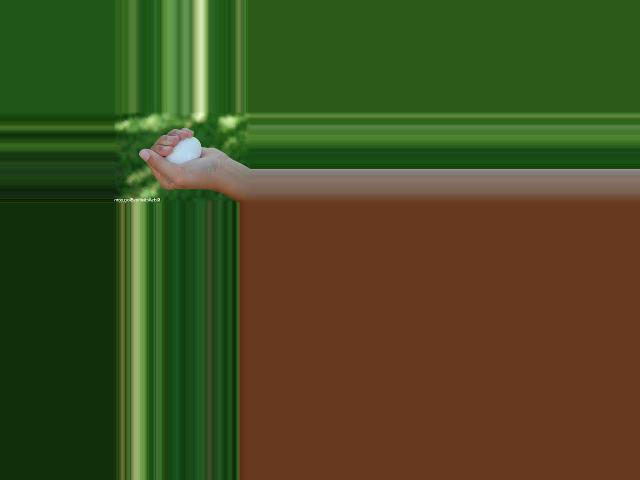egg: (164, 136, 200, 164)
